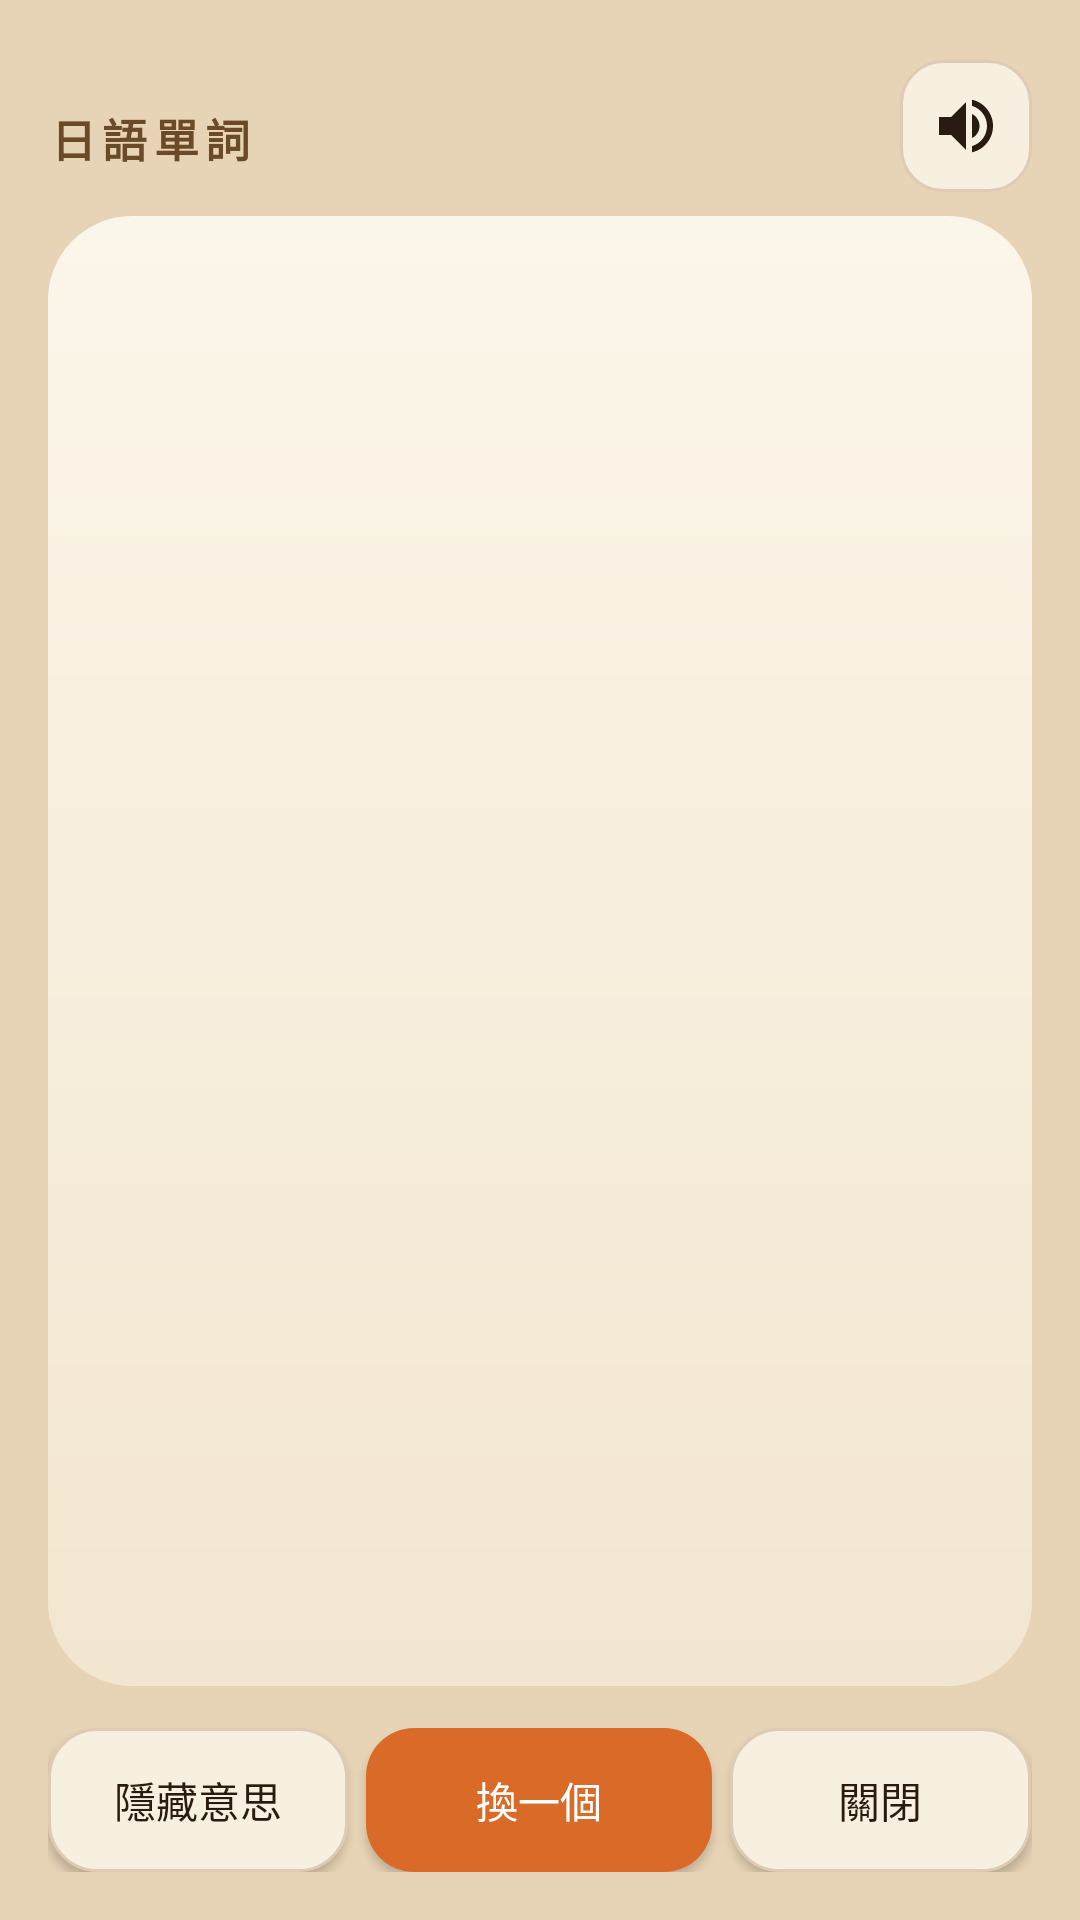

Screen size 1080x1920. Icon name, then its box in pixels as box(x1, y1, x2, y2):
朗讀: box(903, 63, 1029, 189)
